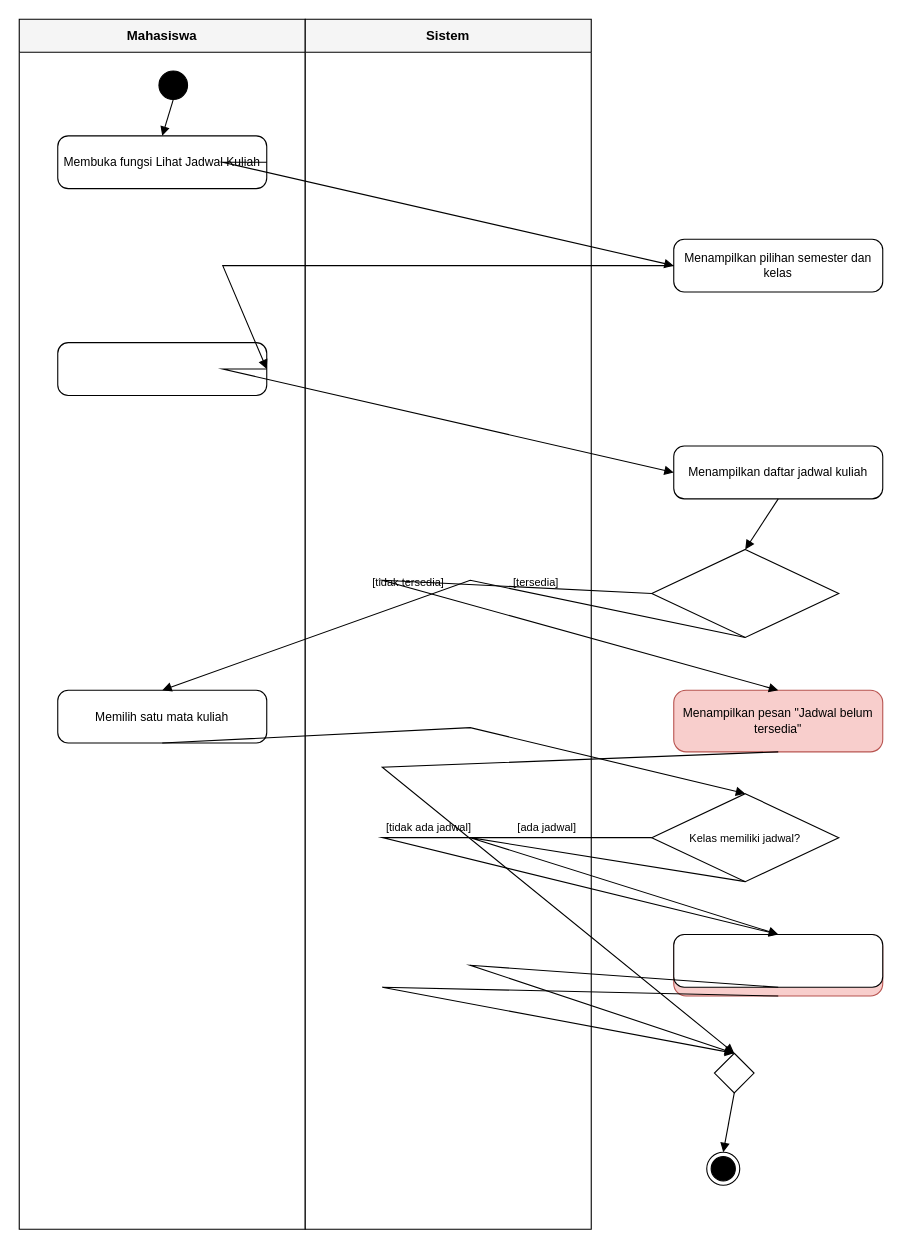
Some shapes in this 902 by 1249 pixel diagram are drawn without their labels. The shapes that lost their labels are listed below. From the top down, each one's box as (x1, y1, x2, y2) in pixels, then its label:
(57, 342, 267, 395): Memilih semester dan kelas
(651, 548, 839, 637): Jadwal semester tersedia?
(673, 933, 883, 987): Menampilkan rincian jadwal mata kuliah terpilih
(673, 933, 883, 996): Menampilkan pesan "Tidak ada jadwal untuk kelas tersebut"
